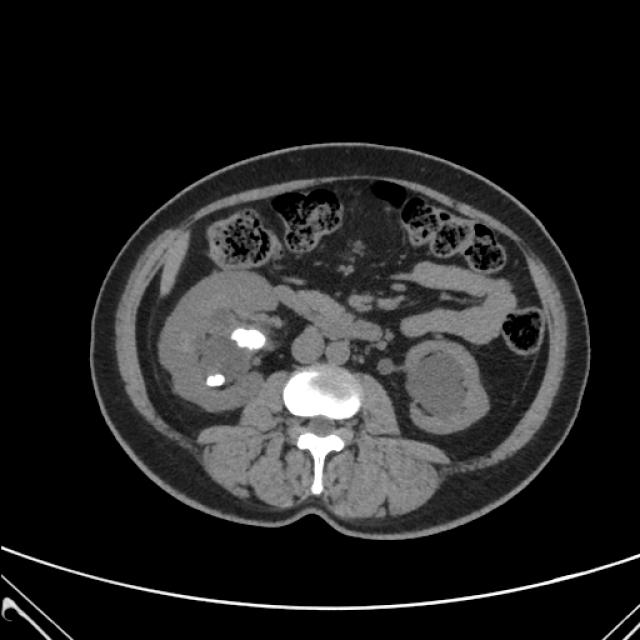kidney: (155, 263, 279, 415), (399, 341, 491, 436)
stone: (228, 322, 272, 354), (205, 372, 231, 388)
